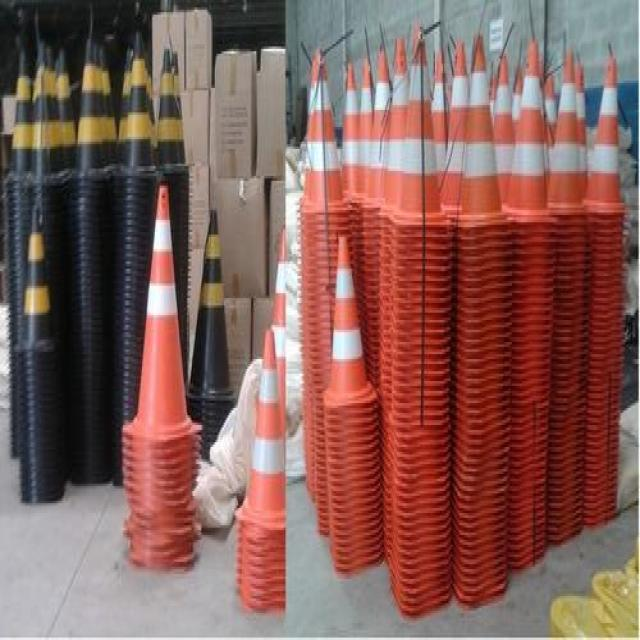cone: (118, 184, 200, 448), (233, 319, 292, 531), (451, 24, 506, 218), (584, 39, 634, 237), (324, 232, 379, 400), (400, 35, 444, 225), (514, 38, 555, 231), (22, 201, 68, 359), (193, 204, 228, 399), (306, 57, 348, 202), (79, 30, 113, 170), (120, 33, 154, 168), (157, 43, 191, 161)
